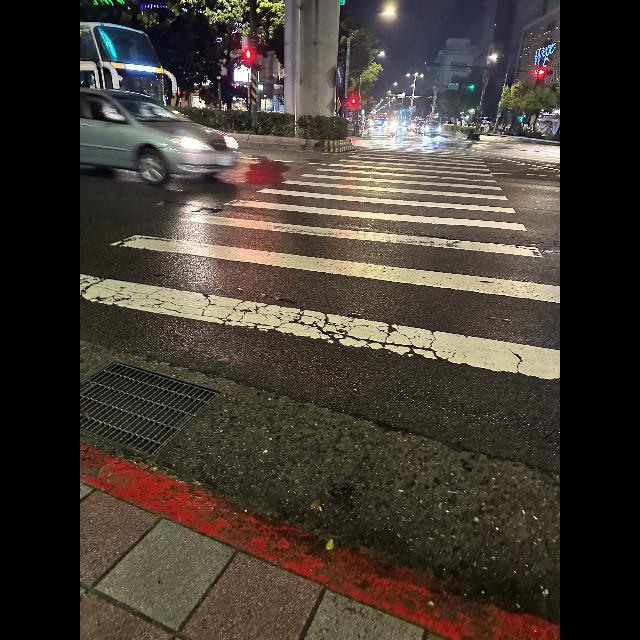sidewalk: (80, 137, 559, 621)
